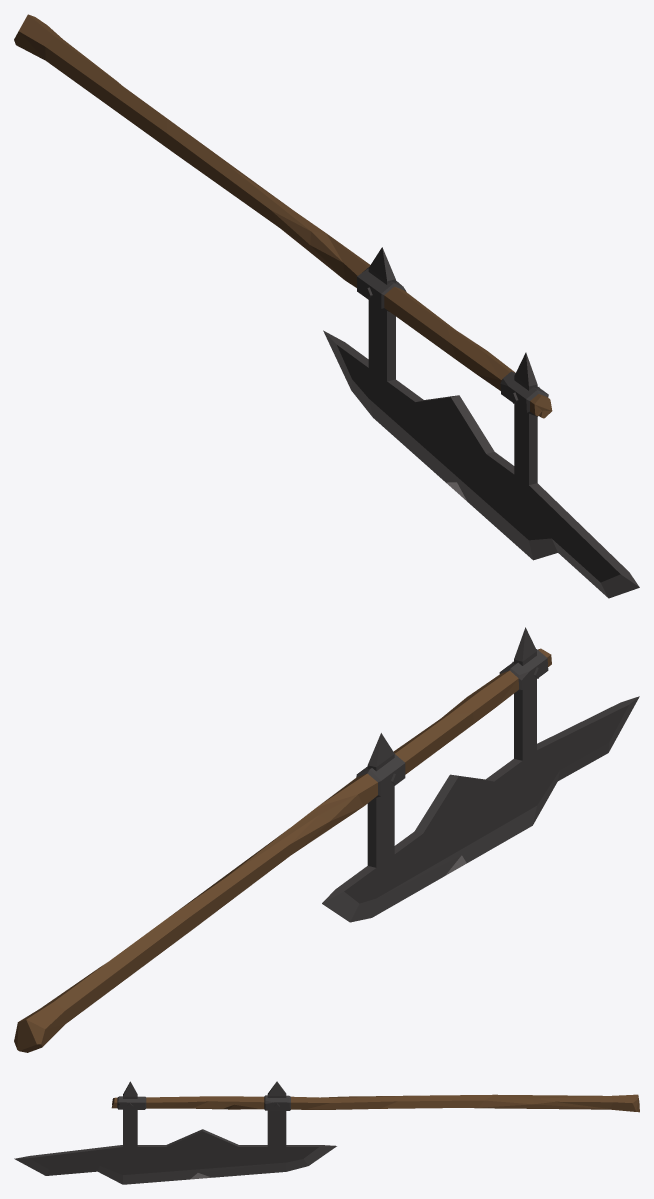
Rendered from SM_Bardiche_Orc.fbx.
3 renders of one model, top to bottom at view 1: azimuth 30°, elevation 25°; view 2: azimuth 150°, elevation 25°; view 3: azimuth 270°, elevation 25°, orthographic. The views are drawn at different scales.
Parts seen in each view (by area): view 1: SM_Bardiche; view 2: SM_Bardiche; view 3: SM_Bardiche.
Boxes of the visible parts, x1=… form: SM_Bardiche: x1=14, y1=14, x2=639, y2=598; SM_Bardiche: x1=14, y1=627, x2=639, y2=1052; SM_Bardiche: x1=14, y1=1081, x2=639, y2=1184.
Bounding box in the file's own units: 0.0852 × 0.5576 × 3.05.
